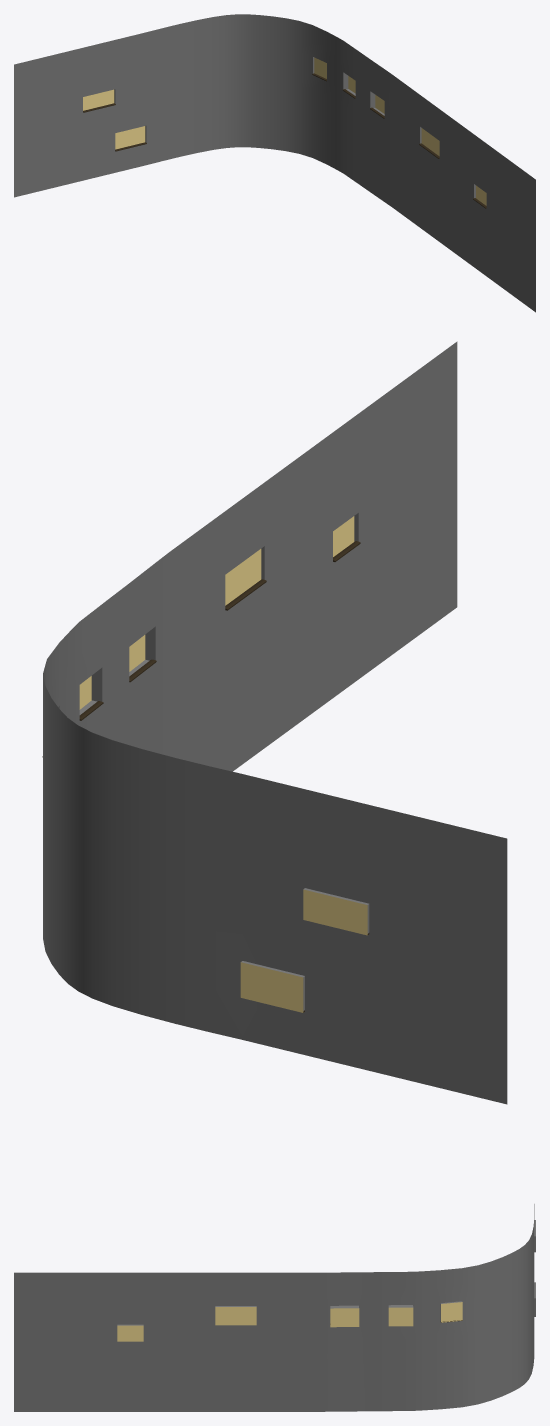
Rendered from SM_Hall_trading_walls.fbx.
3 views of the same model, one above another, from view 1: azimuth 30°, elevation 25°; view 2: azimuth 150°, elevation 25°; view 3: azimuth 270°, elevation 25° (orthographic). The views are drawn at different scales.
Visible parts, largest first — view 1: SM_Hall_trading_walls; view 2: SM_Hall_trading_walls; view 3: SM_Hall_trading_walls.
Part boxes in pixels (x1,y1,x2,y2): SM_Hall_trading_walls: [14, 14, 535, 312]; SM_Hall_trading_walls: [42, 341, 507, 1104]; SM_Hall_trading_walls: [14, 1204, 535, 1411].
Size of the model in its own units: 3243 by 1480 by 5032.
